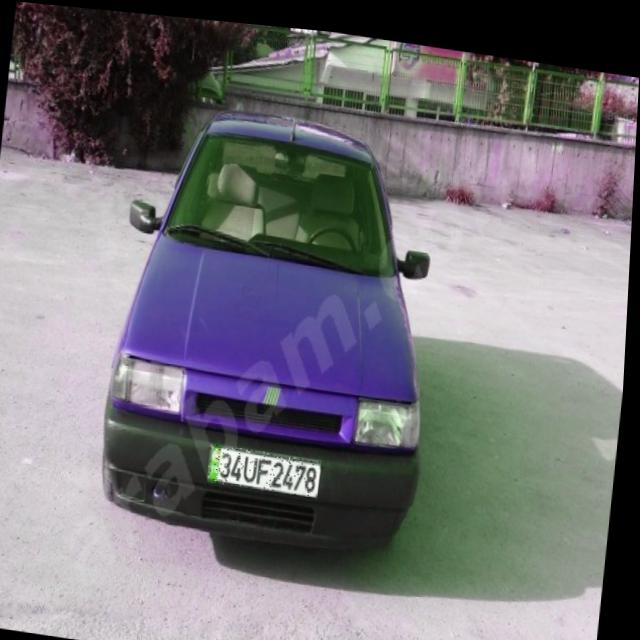license_plate: (212, 439, 326, 492)
